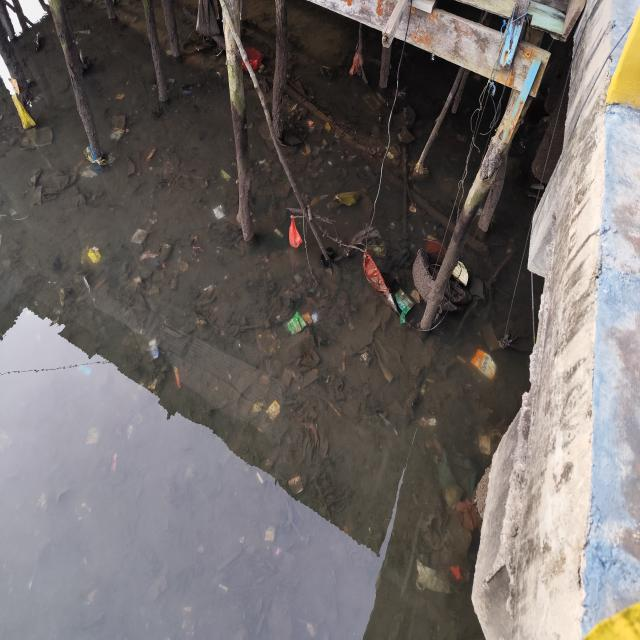Bungkus Makanan: (470, 348, 500, 381), (395, 288, 416, 325), (287, 311, 308, 338)
Kantong Plastik: (288, 219, 305, 250)
